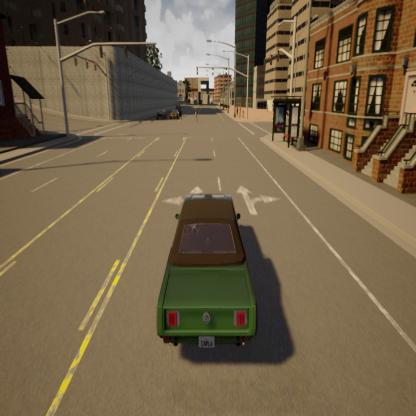Cars: (147, 187, 263, 360), (156, 107, 167, 122), (173, 102, 183, 116), (171, 109, 180, 122)
Pedestrian: (192, 104, 200, 125)
